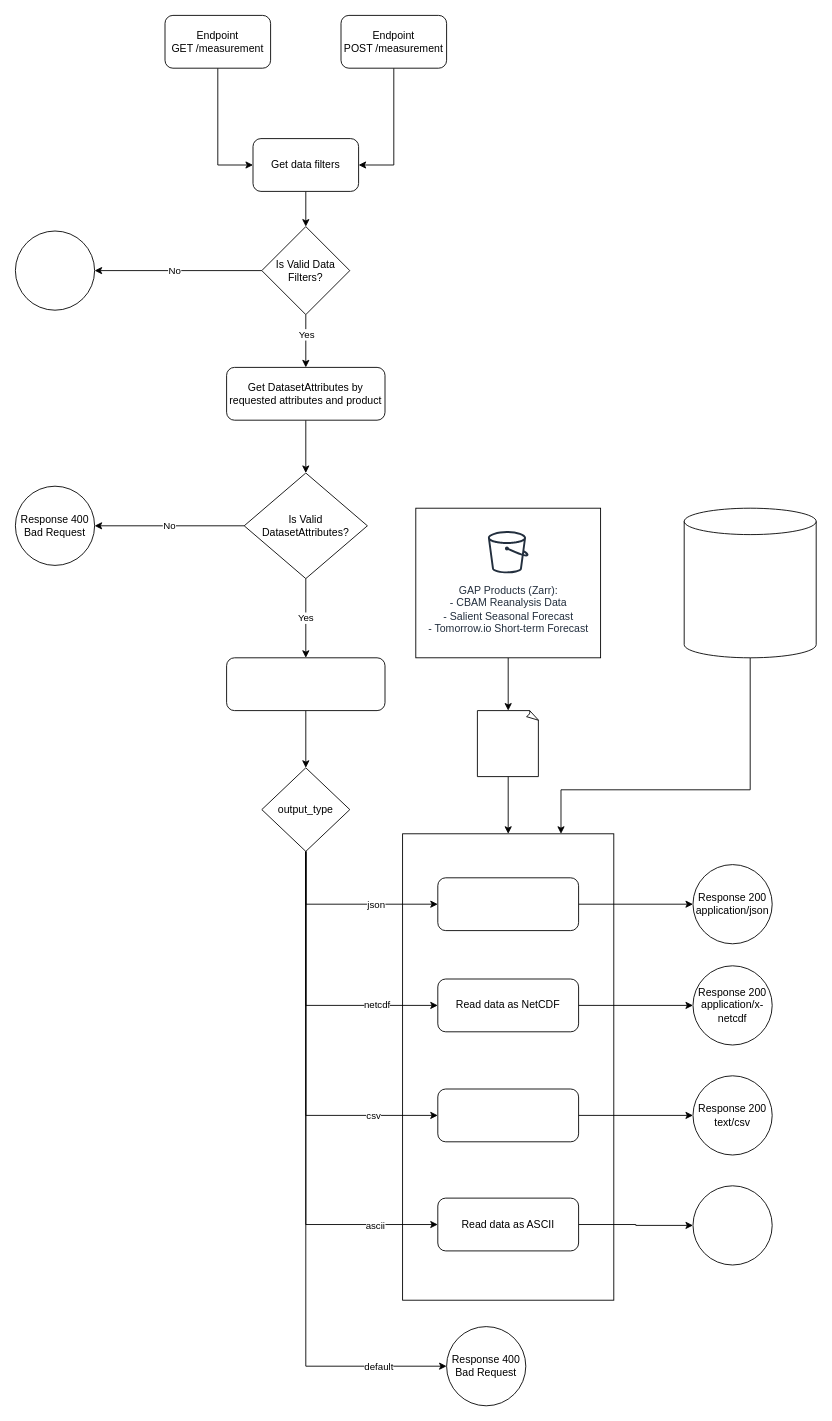
This 832x1421 diagram has some shape labels left out. The shapes that lost their labels are listed below. From the top down, each one's centre as x and y in pixels, then its label:
At pixel 55 270: "Response 400 - Bad Request".
At pixel 749 582: "Observations: - Tahmo Ground Observations - Arable observations".
At pixel 305 684: "Get Reader Classes for Dataset in product_type".
At pixel 508 743: "Zarr cache".
At pixel 508 904: "Read data as json".
At pixel 508 1115: "Read data as CSV".
At pixel 732 1225: "Response 200 text/ascii".
